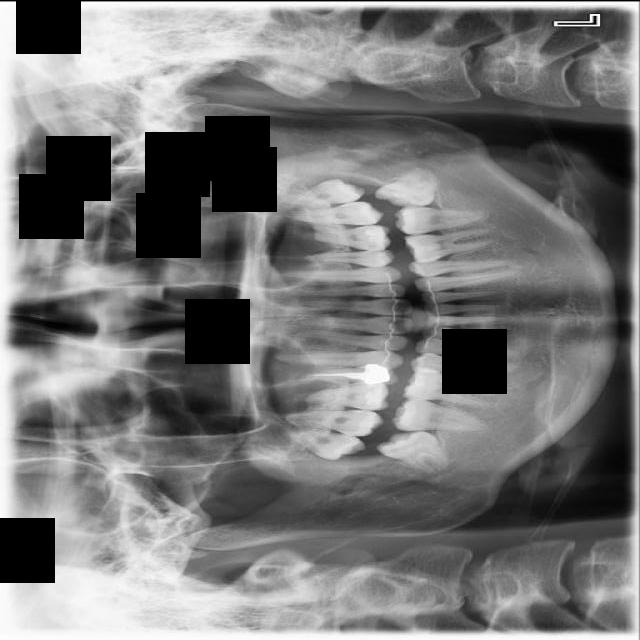3M ESPE Implant: (276, 420, 368, 467)
52: (343, 221, 393, 255), (356, 362, 399, 386)
73: (306, 363, 369, 387), (572, 76, 584, 86)
BioHorizons Implant: (280, 198, 387, 225)
BioLife Implant: (284, 175, 366, 207)
Biomet 3i Implant: (373, 166, 440, 208)
Blue Sky Bio Implant: (393, 203, 486, 237)
Caries: (284, 407, 383, 436)
Implant: (391, 396, 490, 431)
Keystone Dental Implant: (374, 414, 457, 480)
